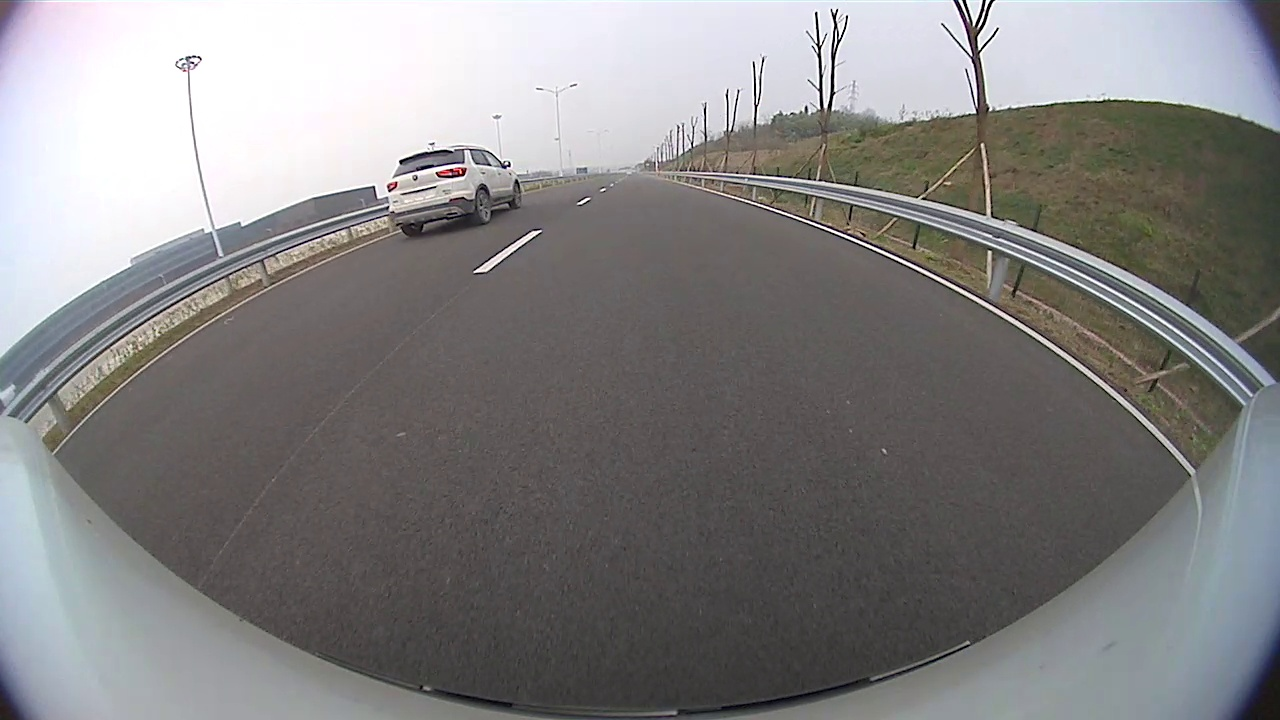car: (384, 145, 524, 244)
front: (512, 182, 523, 208)
rear: (475, 189, 492, 224)
